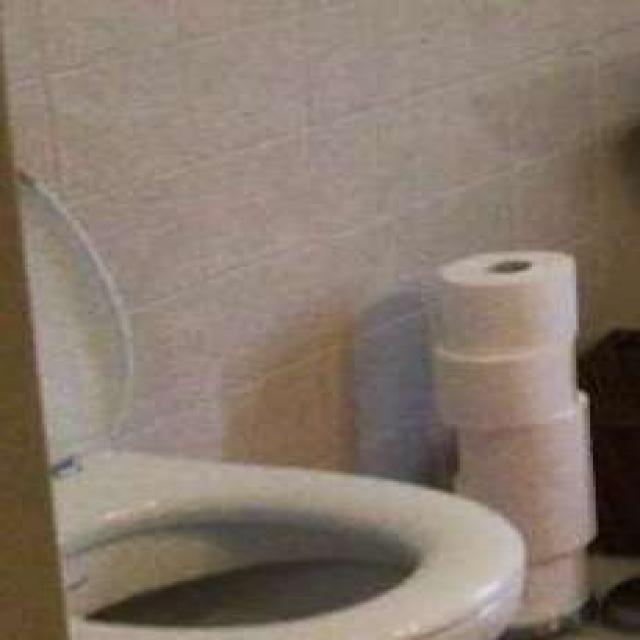toilet: (0, 163, 526, 640)
